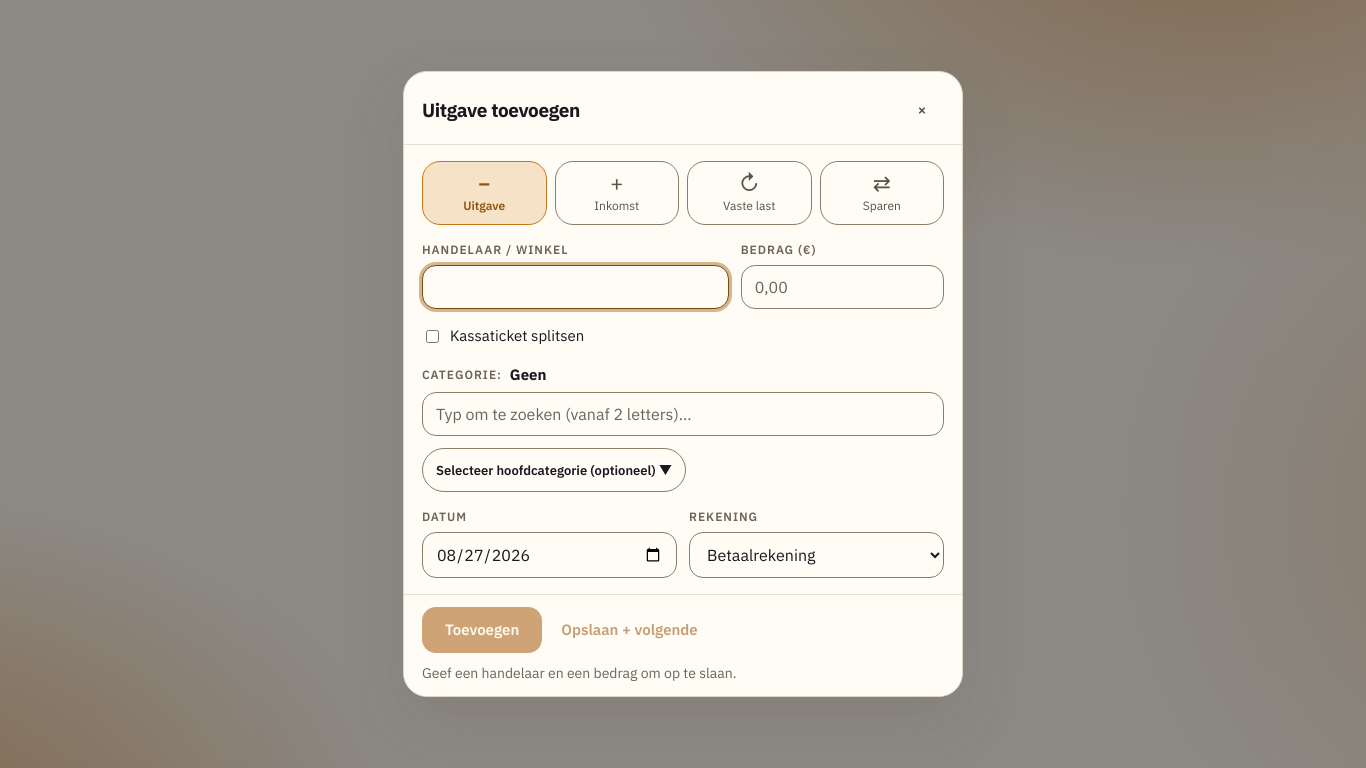
it: BoekingDialoog › zegt waarom de knop uitstaat in plaats van enkel niet te reageren
The image size is (1366, 768).
Click the button "⇄ Sparen" at (882, 193), box x1=820 y1=161 x2=944 y2=225
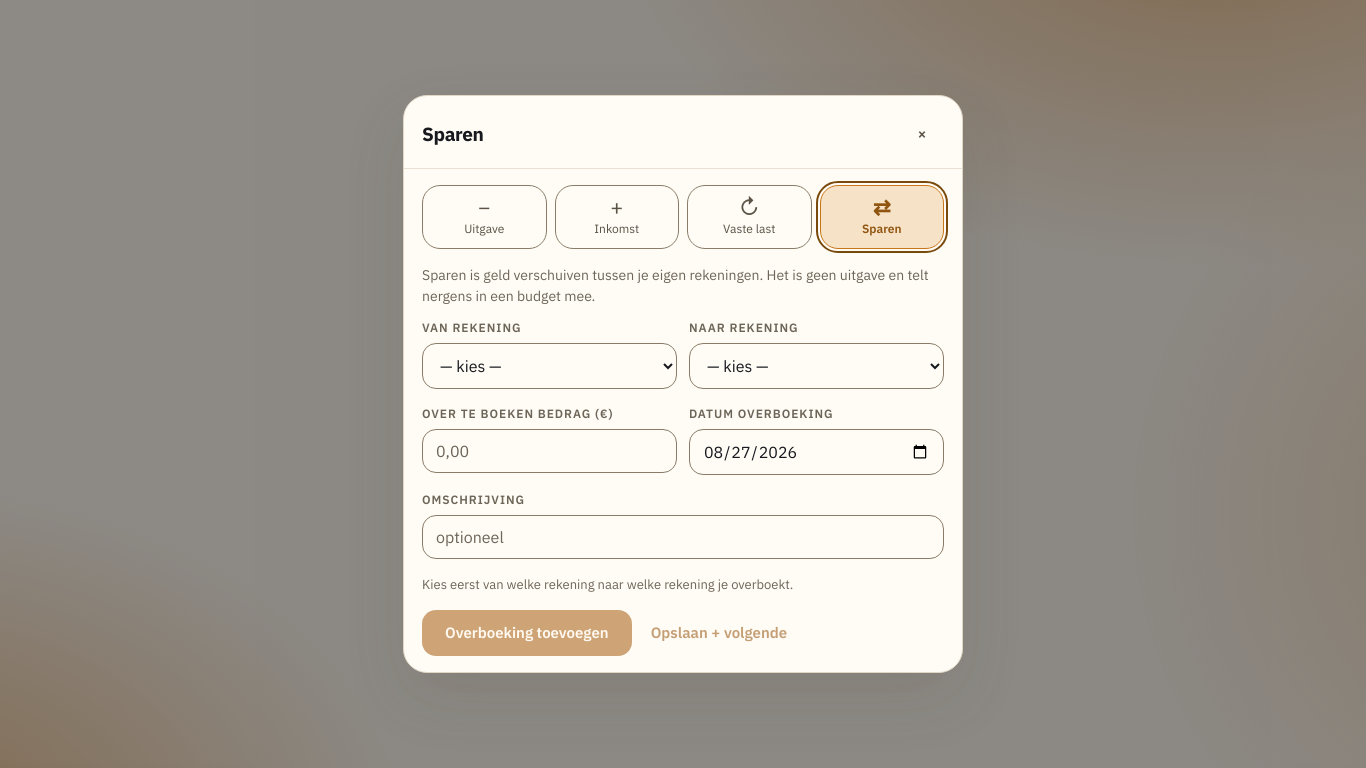
Now the text "Kies eerst van welke rekening naar welke rekening je overboekt." is shown, box x1=422 y1=576 x2=793 y2=593
Select "Betaalrekening — € 1.000,00" in the dropdown labelled "Van rekening" at (550, 366), box x1=422 y1=343 x2=677 y2=389
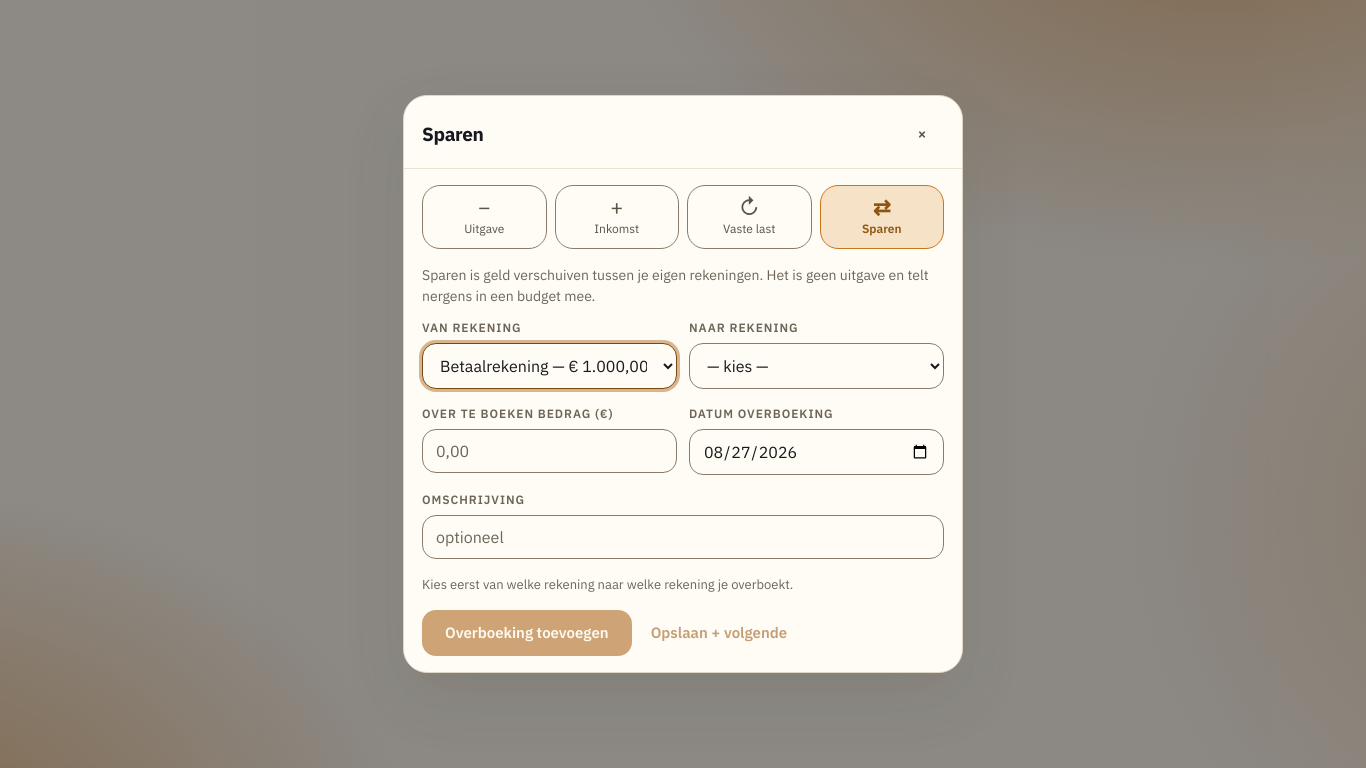
Select "Betaalrekening — € 1.000,00" in the dropdown labelled "Naar rekening" at (816, 366), box x1=689 y1=343 x2=944 y2=389
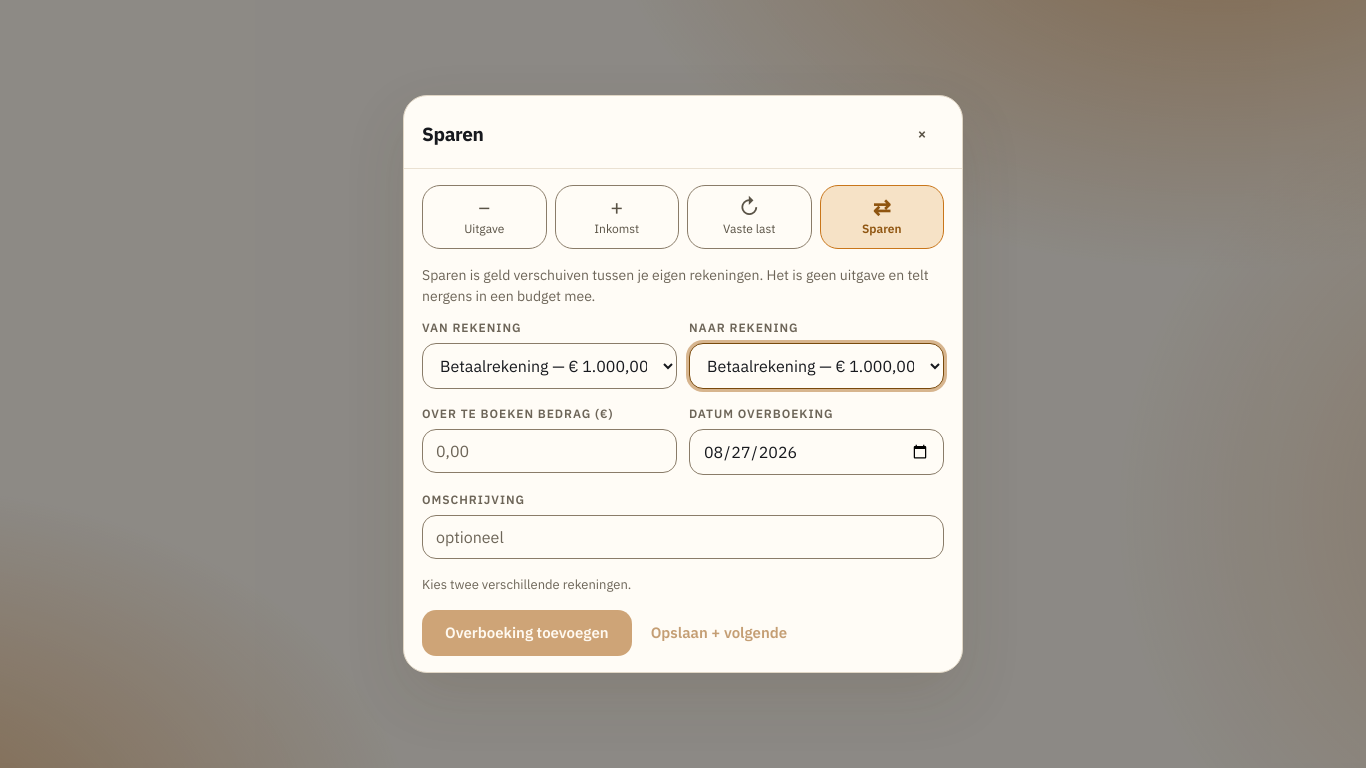
Now the text "Kies twee verschillende rekeningen." is shown, box x1=422 y1=576 x2=631 y2=593
Select "Spaarrekening — € 5.000,00" in the dropdown labelled "Naar rekening" at (816, 366), box x1=689 y1=343 x2=944 y2=389
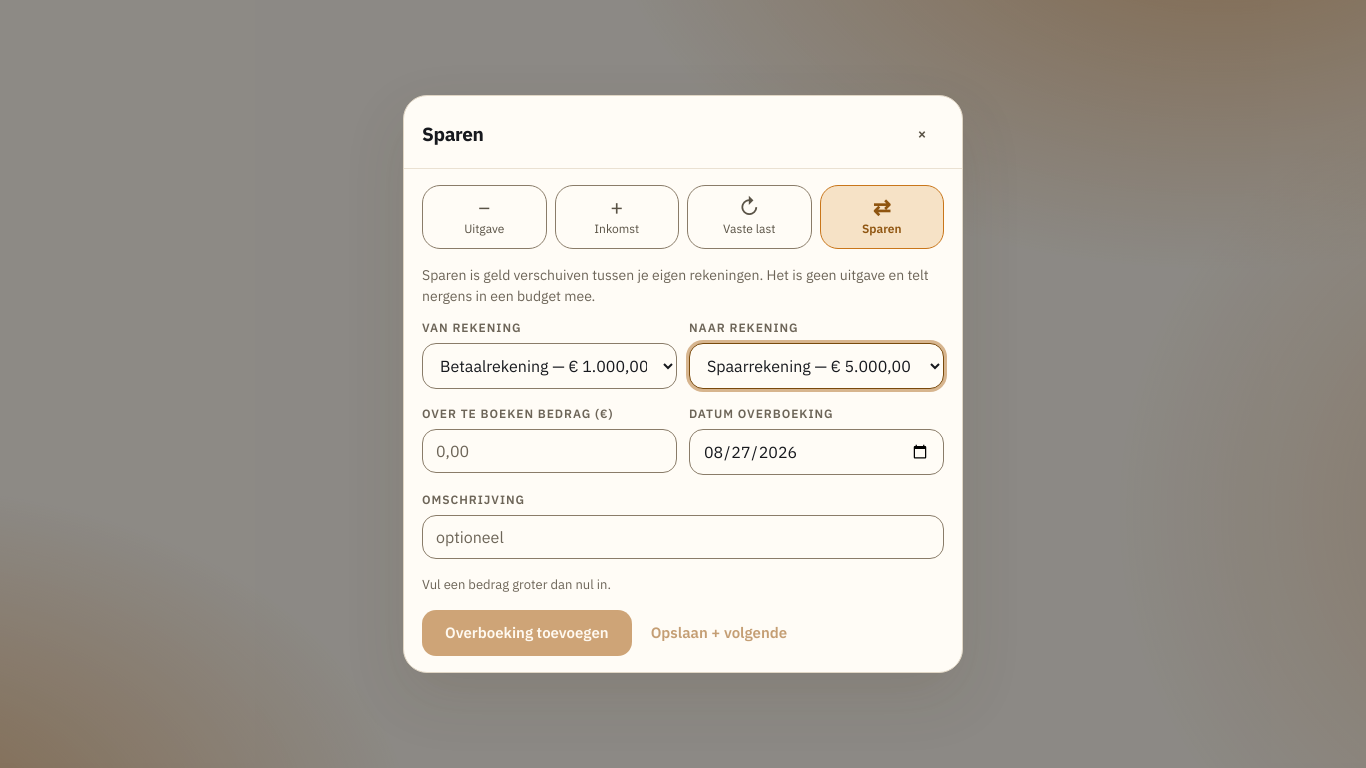
Now the text "Vul een bedrag groter dan nul in." is shown, box x1=422 y1=576 x2=611 y2=593
